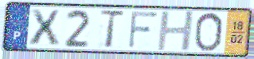2: (64, 8, 92, 49)
F: (127, 10, 160, 50)
H: (156, 10, 196, 53)
O: (193, 12, 225, 53)
T: (98, 9, 126, 50)
X: (28, 8, 61, 46)
